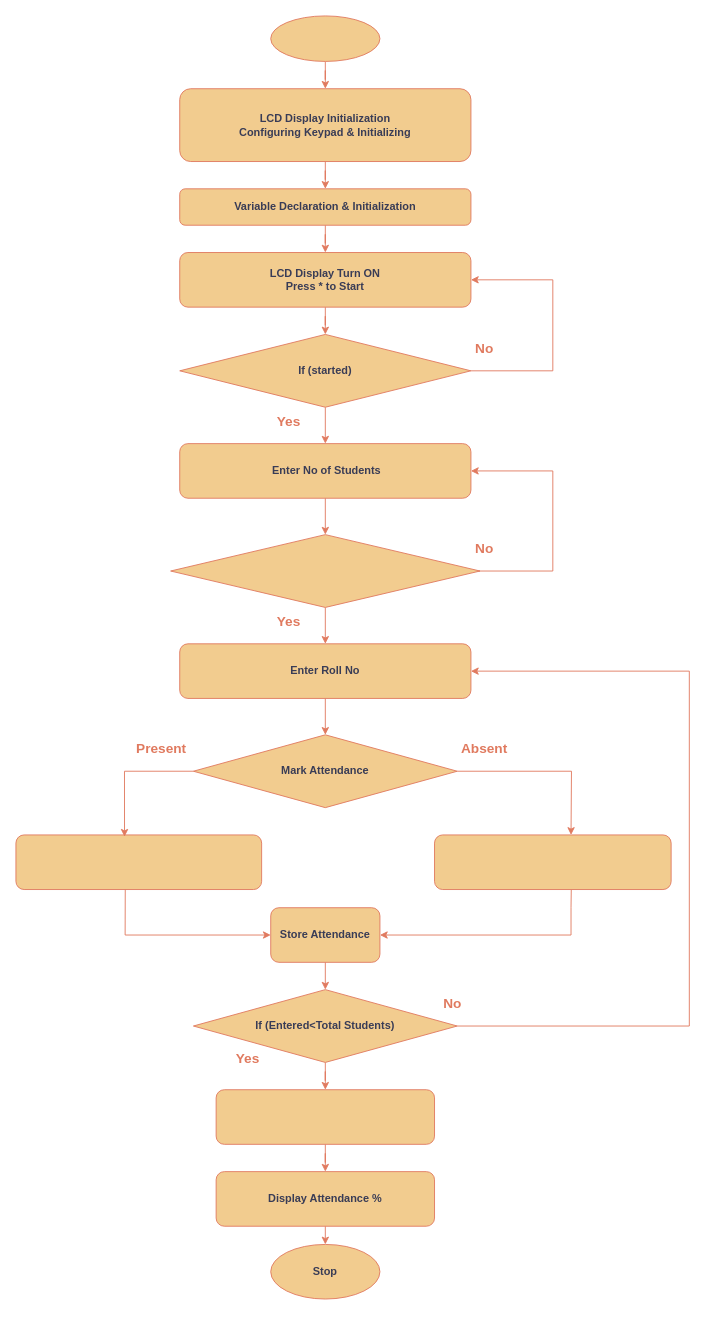
This 713x1322 diagram has some shape labels left out. The centre of each missing label's shape, as x and y in pixels:
"Entered++" goes at (552,862).
"PresentCount++ Entered++" goes at (138,862).
"Press # to confirm Total No of Students" goes at (325,570).
"Press D to Calculate the attendance" goes at (325,1116).
"Start" goes at (325,38).
